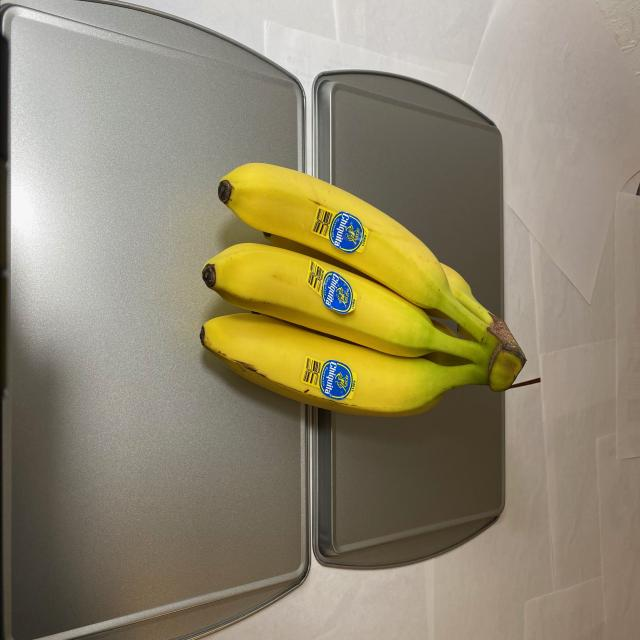banana: (183, 158, 524, 422)
